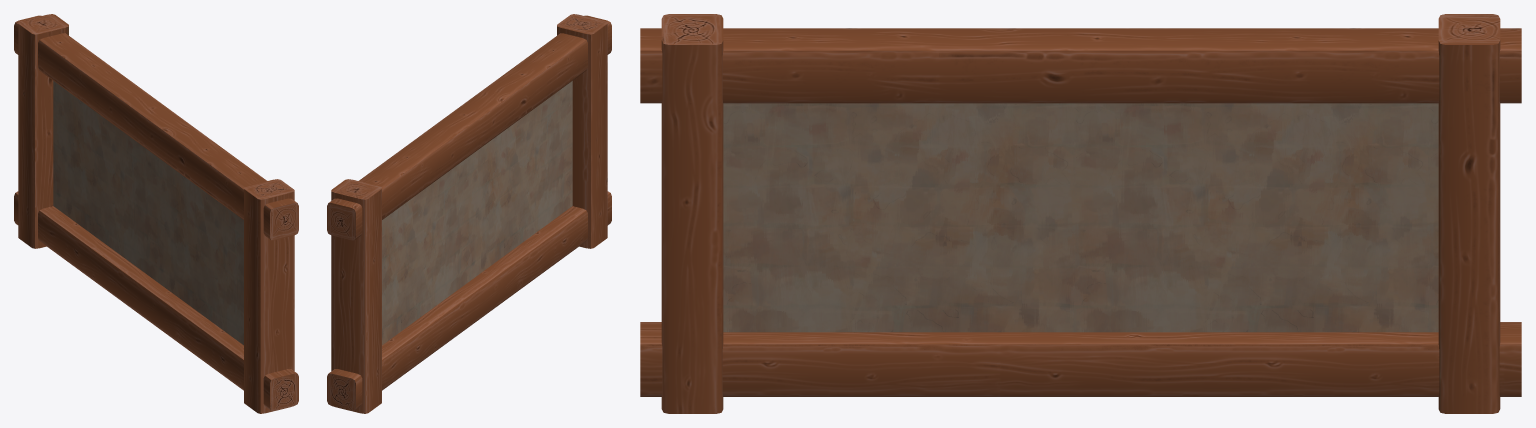
File: SM_Wood_Wall.fbx
The picture shows the model from 3 angles, left to right: view 1: azimuth 30°, elevation 25°; view 2: azimuth 150°, elevation 25°; view 3: azimuth 270°, elevation 25°; orthographic projection. The views are drawn at different scales.
Visible parts, largest first — view 1: SM_Wood_Wall_LOD0; view 2: SM_Wood_Wall_LOD0; view 3: SM_Wood_Wall_LOD0.
Part boxes in pixels (x1=…): SM_Wood_Wall_LOD0: x1=14, y1=14, x2=298, y2=413; SM_Wood_Wall_LOD0: x1=327, y1=14, x2=611, y2=413; SM_Wood_Wall_LOD0: x1=640, y1=14, x2=1521, y2=413.
Bounding box in the file's own units: 56.87 × 682 × 315.
Materials: 2 (2 with a texture image).
